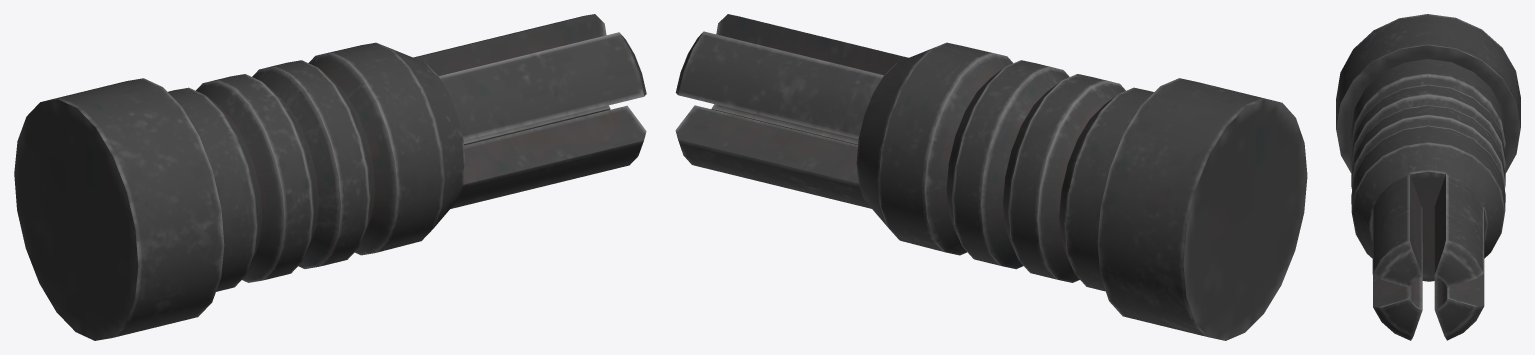
File: ST_Muzzle_FlashHider_L.FBX
The picture shows the model from 3 angles, left to right: view 1: azimuth 30°, elevation 25°; view 2: azimuth 150°, elevation 25°; view 3: azimuth 270°, elevation 25°; orthographic projection. The views are drawn at different scales.
Parts seen in each view (by area): view 1: ST_Muzzle_FlashHider_L; view 2: ST_Muzzle_FlashHider_L; view 3: ST_Muzzle_FlashHider_L.
Part boxes in pixels (box(x1,y1,x2,y2)): ST_Muzzle_FlashHider_L: box(14, 14, 646, 340); ST_Muzzle_FlashHider_L: box(675, 14, 1307, 340); ST_Muzzle_FlashHider_L: box(1336, 14, 1520, 340).
Size of the model in its own units: 6.12 by 2.44 by 2.44.
Materials: 1 (1 with a texture image).
